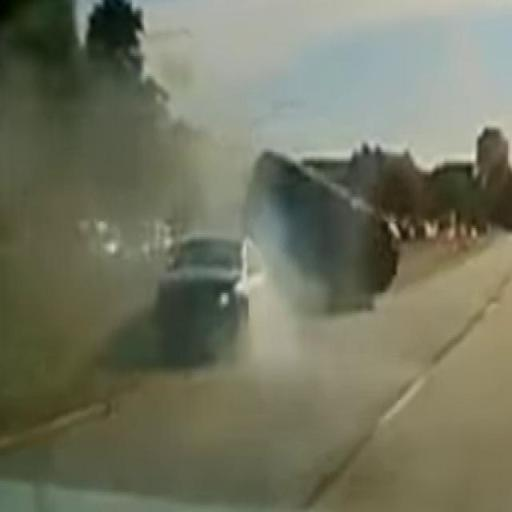小汽车撞小汽车: (158, 146, 402, 368)
